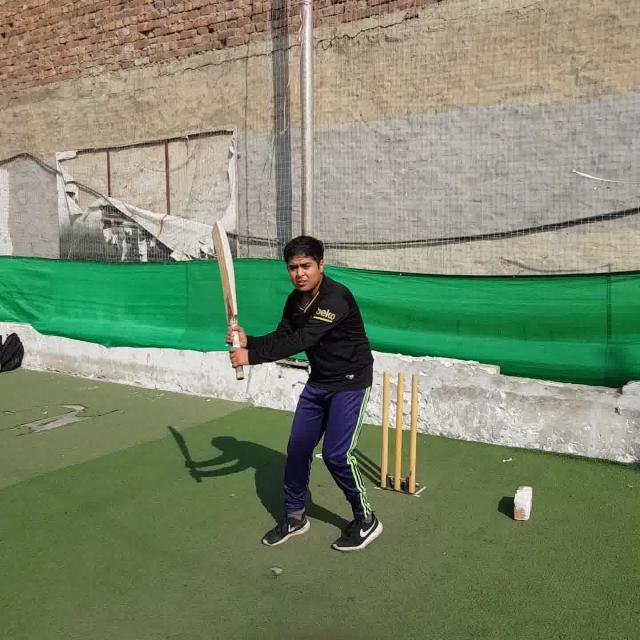bat: (212, 224, 244, 381)
